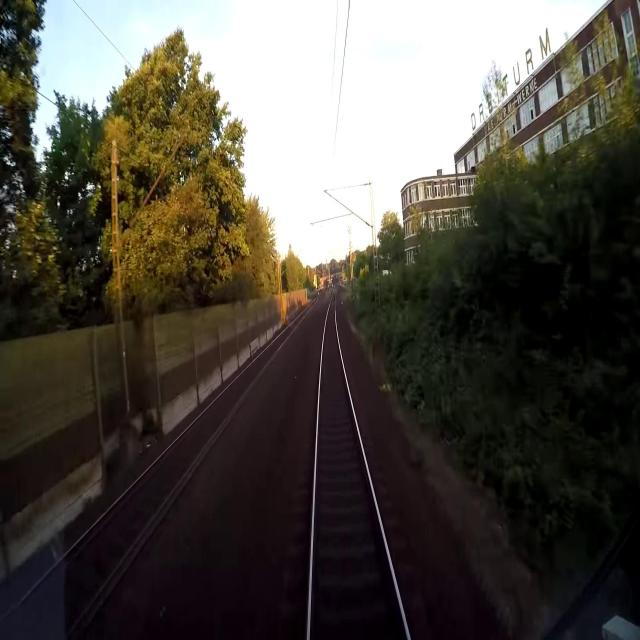rail-track: (2, 307, 310, 638), (311, 295, 406, 639)
